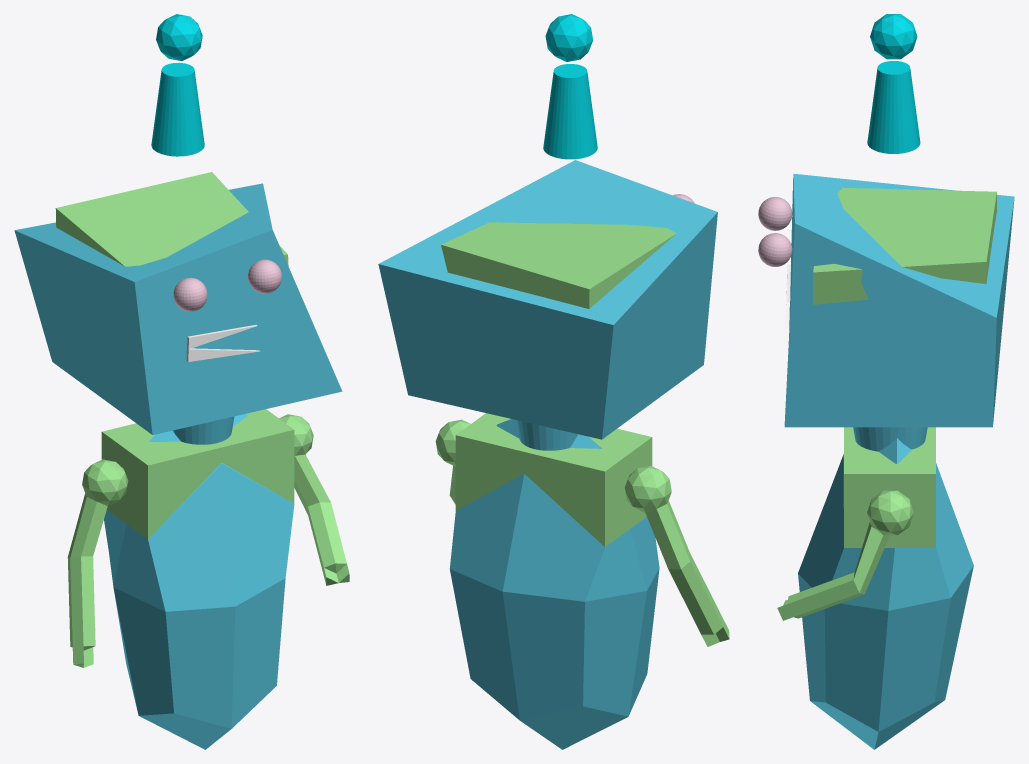
The model's file is first-robot2.gltf.
The picture shows the model from 3 angles, left to right: view 1: azimuth 30°, elevation 25°; view 2: azimuth 150°, elevation 25°; view 3: azimuth 270°, elevation 25°; orthographic projection. The views are drawn at different scales.
Visible parts, largest first — view 1: face, body, chest, brain, left shoulder, Cylinder.001, right shoulder, lips, neck, right eye, lefr eye; view 2: face, body, brain, chest, Cylinder.001, left shoulder, neck, right shoulder; view 3: face, body, brain, chest, Cylinder.001, right shoulder, neck, lefr eye, right eye.
Boxes of the visible parts, x1=… form: face: x1=14, y1=183, x2=342, y2=434; body: x1=104, y1=414, x2=294, y2=749; chest: x1=101, y1=409, x2=294, y2=539; brain: x1=55, y1=172, x2=288, y2=266; left shoulder: x1=67, y1=459, x2=128, y2=667; Cylinder.001: x1=151, y1=14, x2=204, y2=156; right shoulder: x1=279, y1=414, x2=349, y2=585; lips: x1=186, y1=325, x2=260, y2=361; neck: x1=173, y1=416, x2=234, y2=444; right eye: x1=173, y1=277, x2=207, y2=311; lefr eye: x1=248, y1=259, x2=281, y2=293; face: x1=378, y1=160, x2=717, y2=439; body: x1=449, y1=419, x2=659, y2=749; brain: x1=441, y1=222, x2=676, y2=308; chest: x1=455, y1=413, x2=652, y2=546; Cylinder.001: x1=543, y1=14, x2=597, y2=159; left shoulder: x1=624, y1=465, x2=729, y2=646; neck: x1=516, y1=420, x2=577, y2=450; right shoulder: x1=435, y1=419, x2=470, y2=504; face: x1=784, y1=173, x2=1014, y2=427; body: x1=798, y1=438, x2=973, y2=749; brain: x1=813, y1=187, x2=996, y2=304; chest: x1=844, y1=427, x2=935, y2=547; Cylinder.001: x1=867, y1=14, x2=920, y2=153; right shoulder: x1=777, y1=490, x2=913, y2=620; neck: x1=853, y1=427, x2=927, y2=451; lefr eye: x1=758, y1=233, x2=792, y2=266; right eye: x1=758, y1=197, x2=792, y2=230.
Size of the model in its own units: 29.43 by 76.94 by 24.57.
